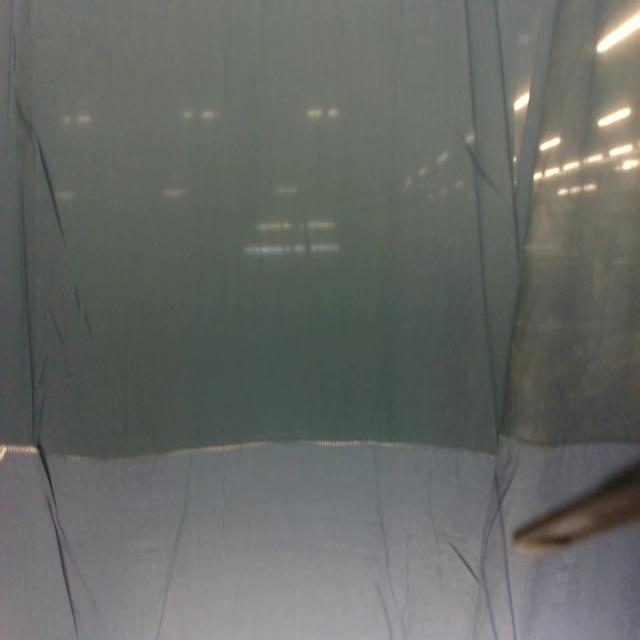crease: (462, 2, 522, 439), (19, 174, 39, 438), (47, 498, 78, 639), (454, 131, 510, 200), (38, 139, 70, 253), (36, 442, 59, 505), (446, 540, 478, 583)
